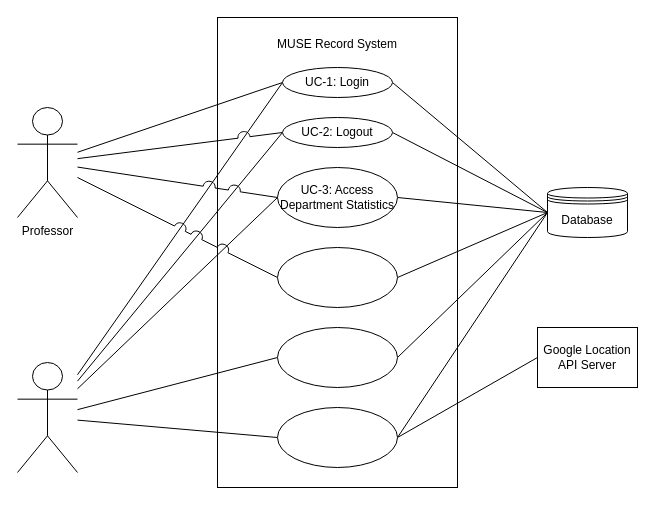
This 655x511 diagram has some shape labels left out. The centre of each missing label's shape, as x and y in pixels:
"Student" belongs at (x=47, y=417).
"UC-4: Access Professor Sections / Records" belongs at (x=337, y=277).
"UC-5: Access Personal Transcript / Records" belongs at (x=337, y=357).
"UC-6: Student Address Heatmap" belongs at (x=337, y=437).
